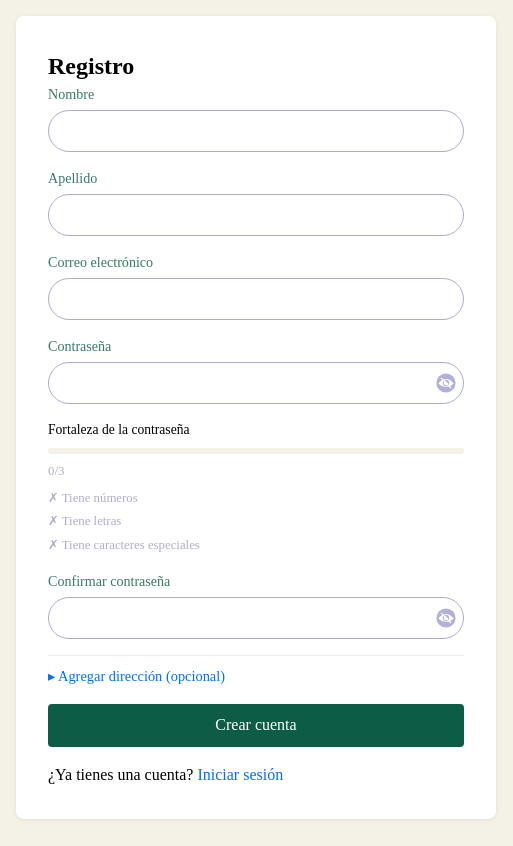
Test: SignUpPage › renders the approved address fields and a read-only Spain label when expanded
This screenshot has width=513, height=846.
Step 1. Click the button "▸ Agregar dirección (opcional)" → x=136, y=676, box x1=48 y1=668 x2=225 y2=685
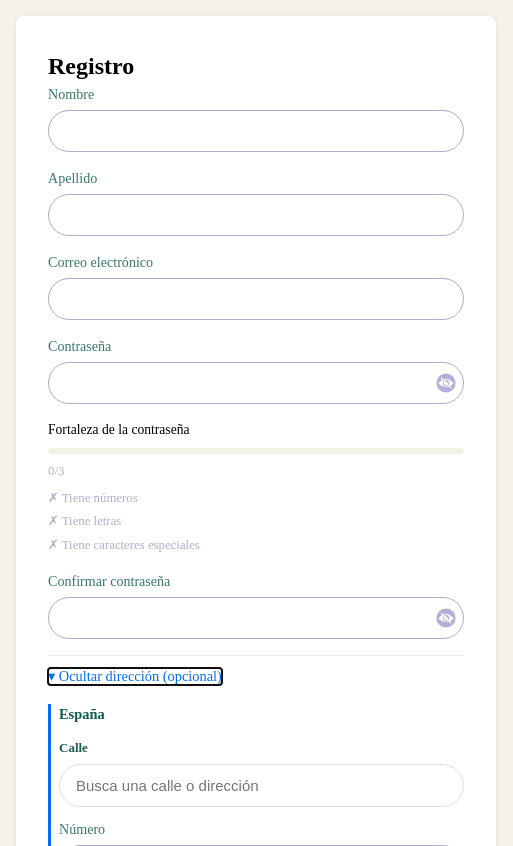
Now the dropdown labelled "Calle" is shown, box x1=59 y1=764 x2=464 y2=807
Now the text "España" is shown, box x1=59 y1=706 x2=105 y2=722
